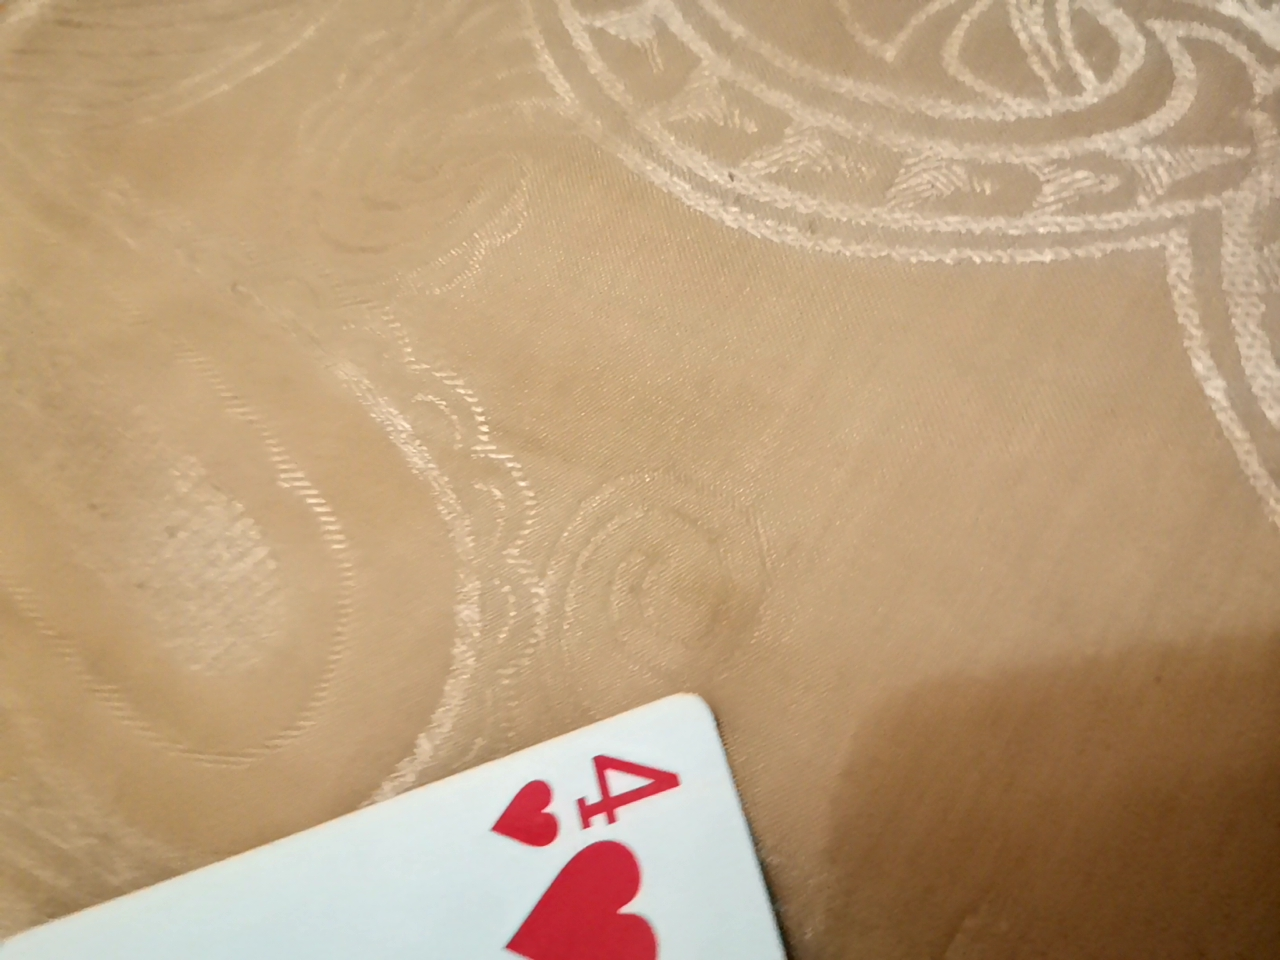hx 4: (23, 672, 1010, 959)
